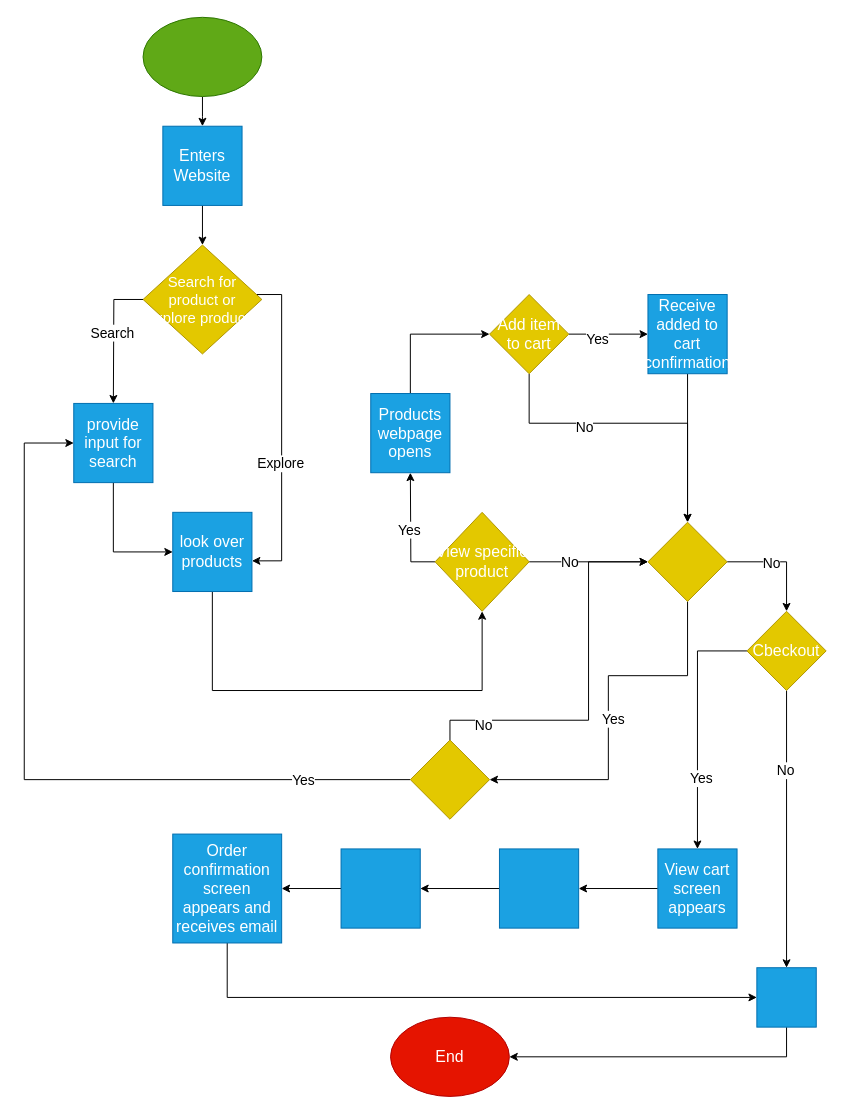
Image size: 843x1114. Some labels were removed from this diagram. Here are the shapes that lost their labels. From the top down, the centre of each, then its label:
At point 202,56: "Start".
At point 687,561: "Continue shopping".
At point 449,779: "Search for new product".
At point 380,888: "Gives input for payment info".
At point 538,888: "View payment screen appears".
At point 786,997: "Leave website".
